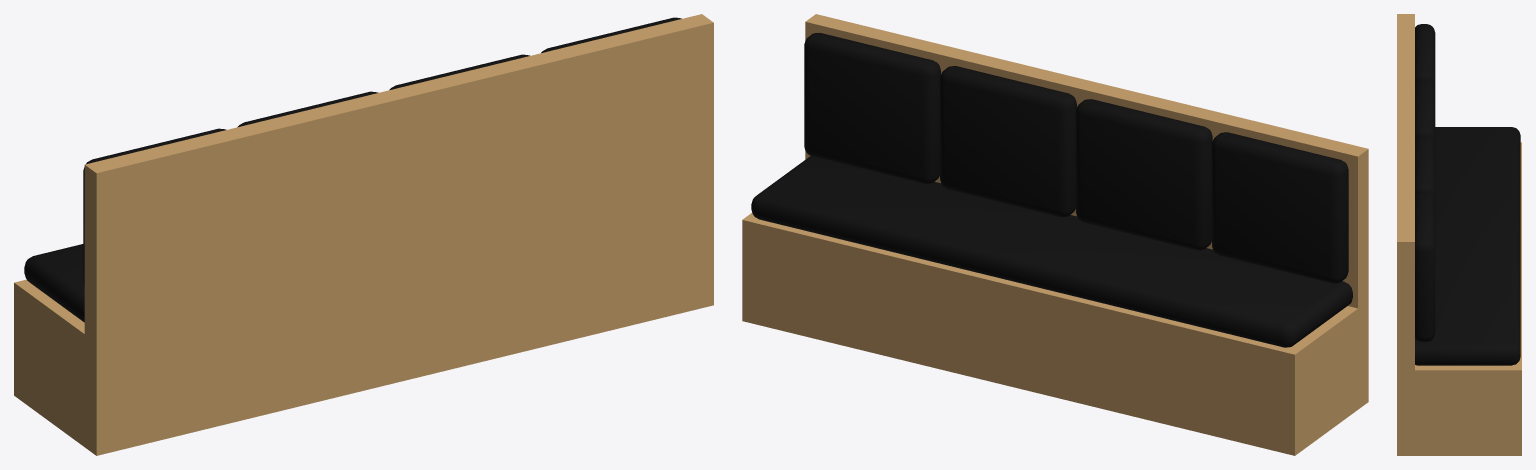
The model's file is hospitality.restaurant.banquette.glb.
3 renders of one model, left to right at view 1: azimuth 30°, elevation 25°; view 2: azimuth 150°, elevation 25°; view 3: azimuth 270°, elevation 25°, orthographic. The views are drawn at different scales.
Visible parts, largest first — view 1: main__glulam, main__leather_black; view 2: main__leather_black, main__glulam; view 3: main__leather_black, main__glulam.
Boxes of the visible parts, bbox=[...] form: main__glulam: bbox=[14, 14, 713, 455]; main__leather_black: bbox=[24, 17, 681, 322]; main__leather_black: bbox=[751, 33, 1352, 347]; main__glulam: bbox=[742, 14, 1368, 455]; main__leather_black: bbox=[1415, 24, 1520, 365]; main__glulam: bbox=[1397, 14, 1521, 455].
Bounding box in the file's own units: 2.4 × 1.05 × 0.555.
